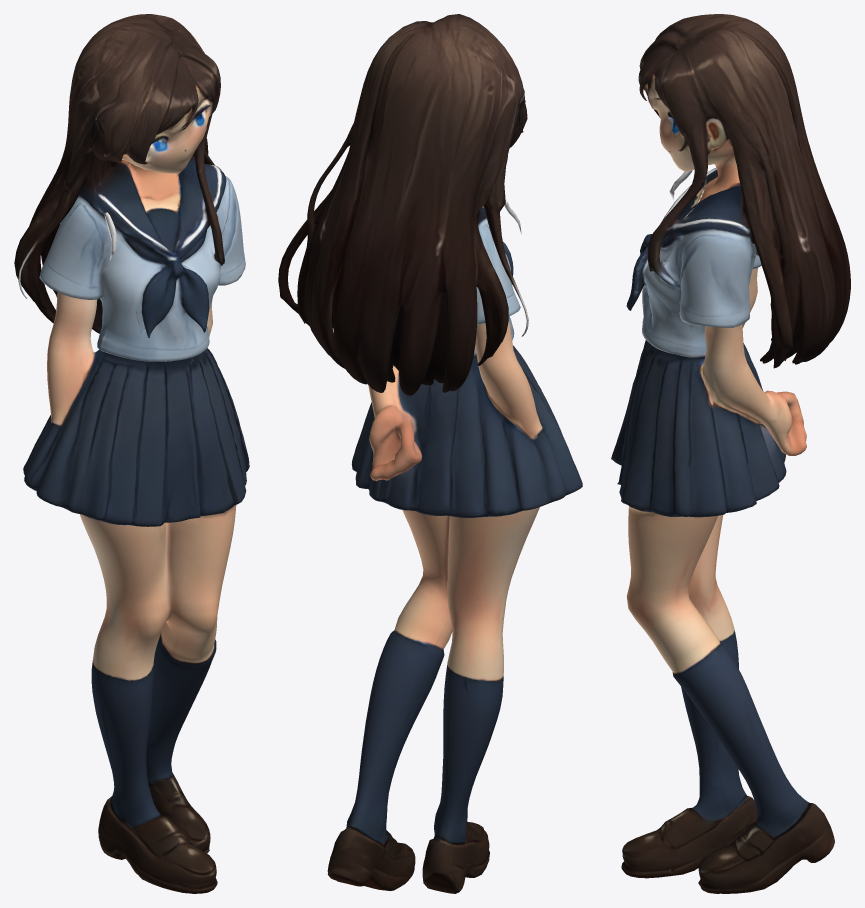
Rendered from base_basic_pbr.glb.
3 views of the same model, side by side, from view 1: azimuth 30°, elevation 25°; view 2: azimuth 150°, elevation 25°; view 3: azimuth 270°, elevation 25° (orthographic). The views are drawn at different scales.
Visible parts, largest first — view 1: model; view 2: model; view 3: model.
Boxes of the visible parts, x1,y1,x2,y2 form: model: [14, 14, 249, 893]; model: [278, 14, 582, 893]; model: [611, 14, 850, 893].
Bounding box in the file's own units: 0.5754 × 1.9 × 0.4869.
1 material, 1 textured.
